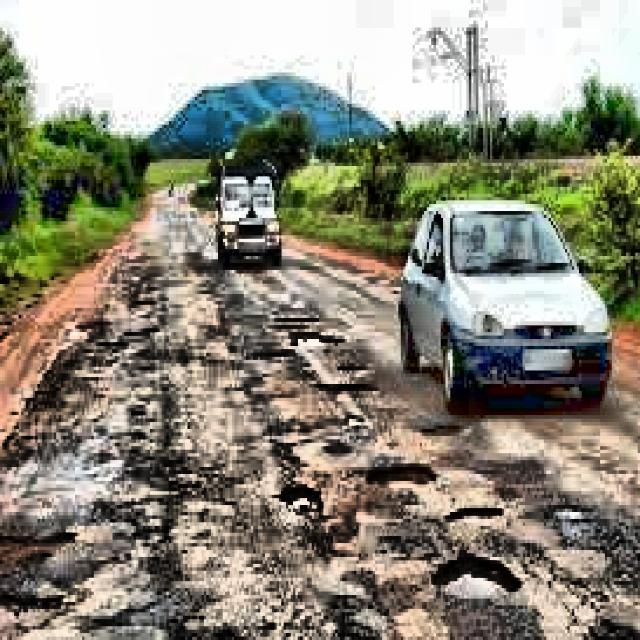Cracks: (431, 550, 520, 598), (368, 464, 436, 481)
